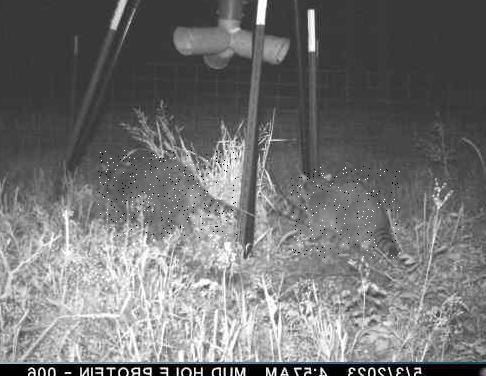Raccoon: (97, 151, 236, 239), (291, 166, 400, 258)
